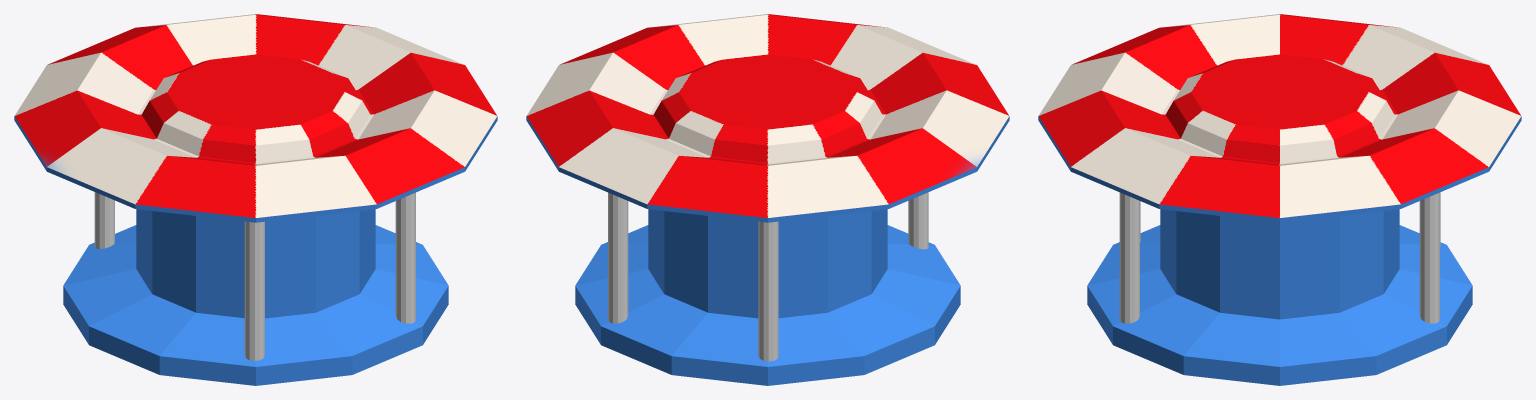
File: buper.fbx
3 views of the same model, side by side, from view 1: azimuth 30°, elevation 25°; view 2: azimuth 150°, elevation 25°; view 3: azimuth 270°, elevation 25° (orthographic).
Visible parts, largest first — view 1: Cylinder, Cylinder.001, Cylinder.002, Cylinder.003; view 2: Cylinder, Cylinder.003, Cylinder.004, Cylinder.001; view 3: Cylinder, Cylinder.002, Cylinder.004.
Boxes of the visible parts, left/top/right/bottom form: Cylinder: left=14, top=14, right=497, bottom=385; Cylinder.001: left=244, top=221, right=264, bottom=360; Cylinder.002: left=395, top=192, right=415, bottom=323; Cylinder.003: left=94, top=192, right=114, bottom=248; Cylinder: left=526, top=14, right=1009, bottom=385; Cylinder.003: left=758, top=221, right=778, bottom=361; Cylinder.004: left=608, top=192, right=628, bottom=323; Cylinder.001: left=908, top=192, right=928, bottom=249; Cylinder: left=1038, top=14, right=1521, bottom=385; Cylinder.002: left=1119, top=192, right=1139, bottom=323; Cylinder.004: left=1419, top=192, right=1439, bottom=323.
Size of the model in its own units: 200 by 97.86 by 200.
Materials: 1 (1 with a texture image).
